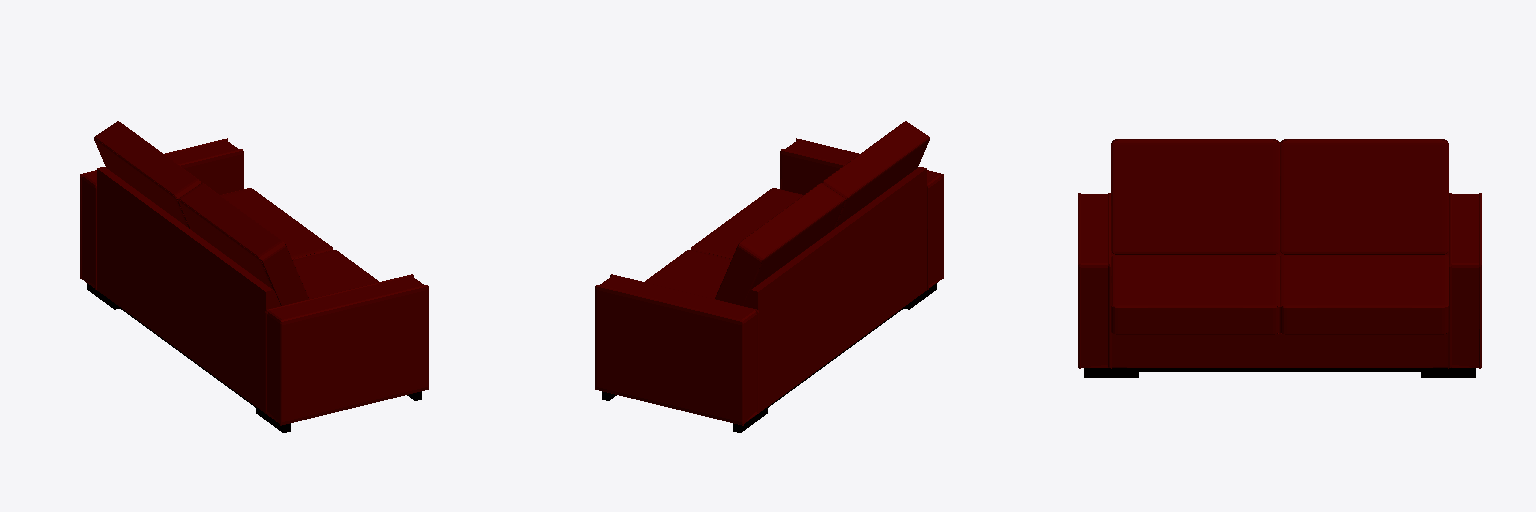
File: chenilleCouch.obj
The picture shows the model from 3 angles: view 1: azimuth 30°, elevation 25°; view 2: azimuth 150°, elevation 25°; view 3: azimuth 270°, elevation 25°; orthographic projection.
Parts seen in each view (by area): view 1: Sides_Cube.003, MainPart_Cube, BackPillows_Cube.005, SeatCushion_Cube.004, SupportFeet_Cube.002; view 2: Sides_Cube.003, MainPart_Cube, BackPillows_Cube.005, SeatCushion_Cube.004, SupportFeet_Cube.002; view 3: BackPillows_Cube.005, SeatCushion_Cube.004, Sides_Cube.003, MainPart_Cube, SupportFeet_Cube.002.
Boxes of the visible parts, x1,y1,x2,y2 form: Sides_Cube.003: [80, 138, 428, 425]; MainPart_Cube: [97, 167, 280, 412]; BackPillows_Cube.005: [94, 121, 308, 305]; SeatCushion_Cube.004: [221, 188, 378, 298]; SupportFeet_Cube.002: [87, 283, 421, 432]; Sides_Cube.003: [595, 138, 943, 425]; MainPart_Cube: [743, 167, 926, 412]; BackPillows_Cube.005: [715, 121, 929, 305]; SeatCushion_Cube.004: [645, 188, 802, 298]; SupportFeet_Cube.002: [602, 283, 936, 432]; BackPillows_Cube.005: [1111, 139, 1448, 254]; SeatCushion_Cube.004: [1111, 255, 1448, 334]; Sides_Cube.003: [1078, 193, 1481, 368]; MainPart_Cube: [1111, 251, 1448, 367]; SupportFeet_Cube.002: [1084, 368, 1475, 377].
Bounding box in the file's own units: 0.9362 × 0.9931 × 2.06.